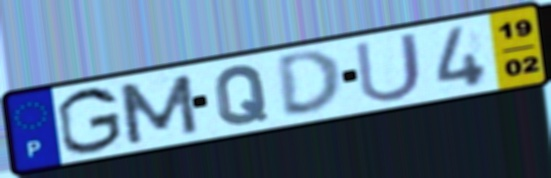4: (432, 22, 490, 91)
D: (273, 47, 347, 119)
G: (54, 85, 125, 157)
M: (114, 71, 203, 148)
Q: (212, 62, 272, 128)
U: (351, 29, 426, 106)
